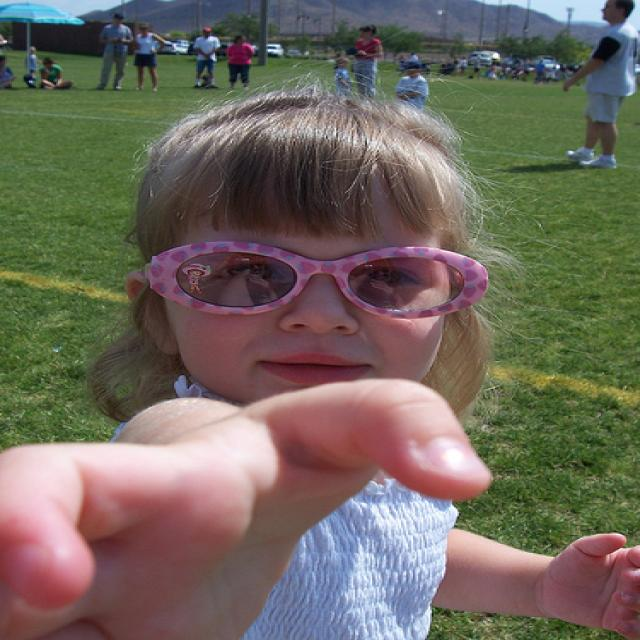person: (1, 81, 639, 639), (561, 1, 639, 170), (126, 22, 170, 93), (95, 14, 134, 91), (351, 23, 385, 101), (394, 60, 431, 114), (192, 27, 223, 89), (225, 34, 257, 92), (37, 58, 71, 92), (331, 57, 355, 97)
